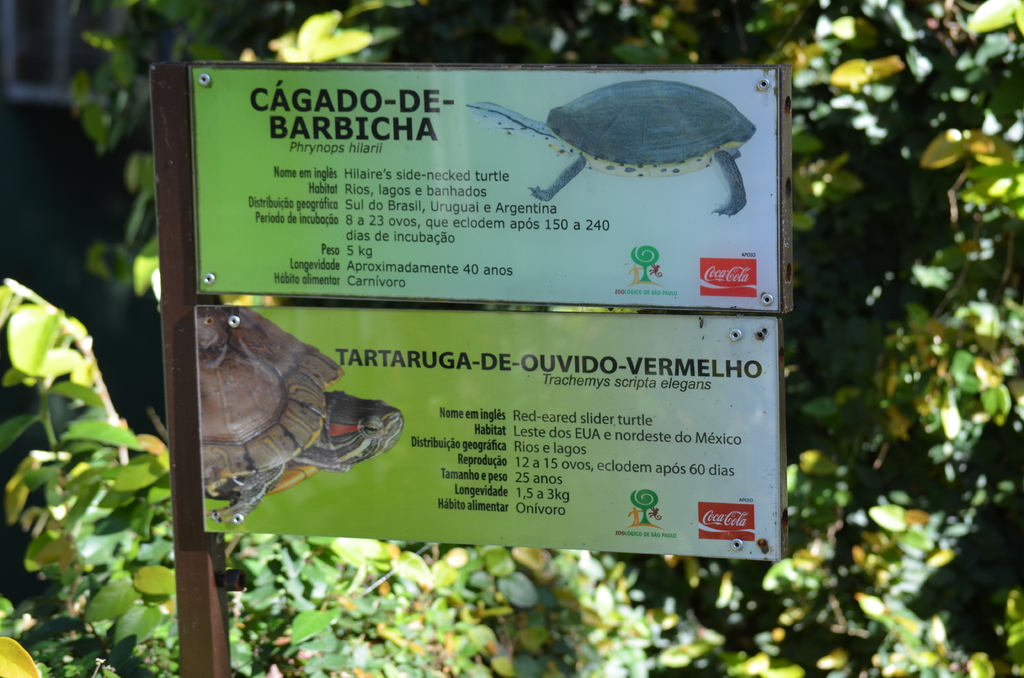Sea turtles: (197, 302, 405, 524), (461, 76, 752, 217)
